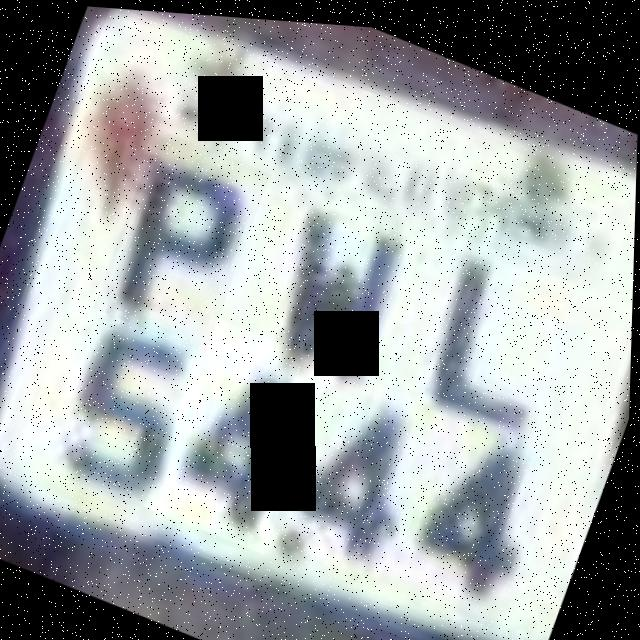4: (371, 388, 569, 628), (146, 310, 336, 554), (261, 357, 448, 591)
5: (18, 277, 229, 515)
J: (393, 213, 588, 453)
P: (95, 123, 274, 354)
W: (249, 167, 434, 406)
